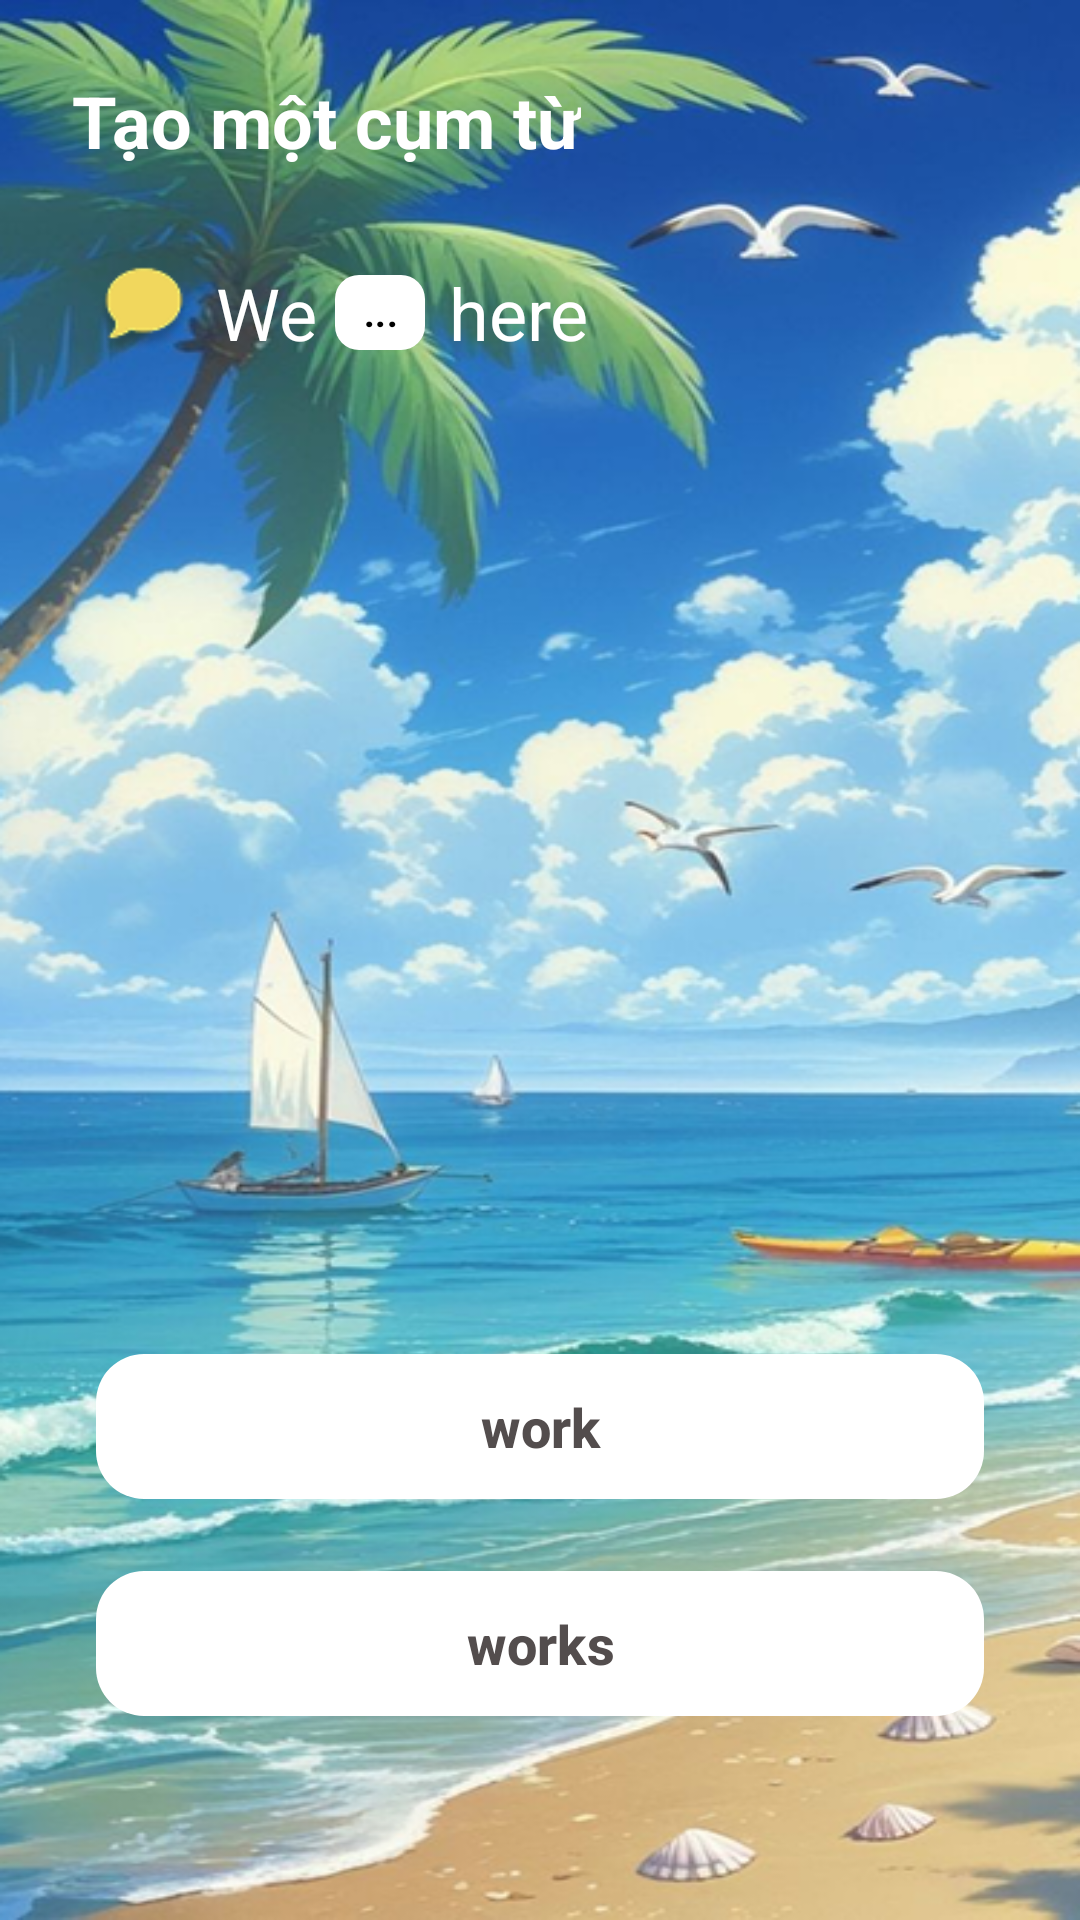

Icons on this 1080px×1920px Android screen, each with the point to tap as (x,y):
speech: (144,313)
